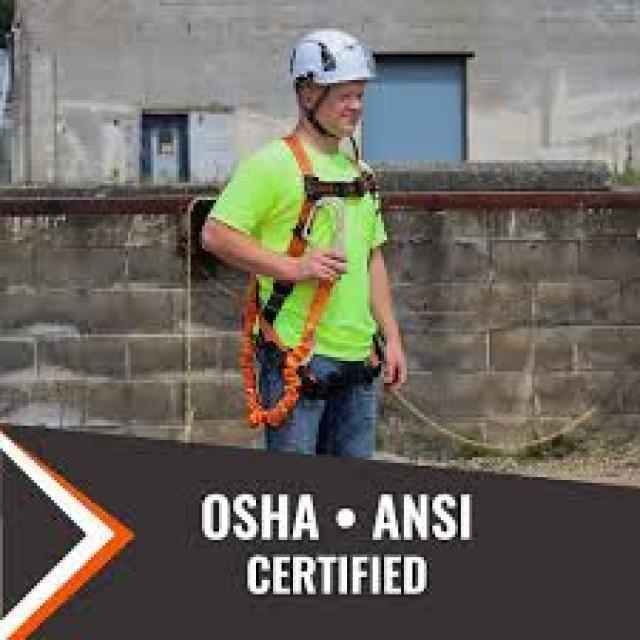Arnes_seguridad: (264, 140, 379, 300)
